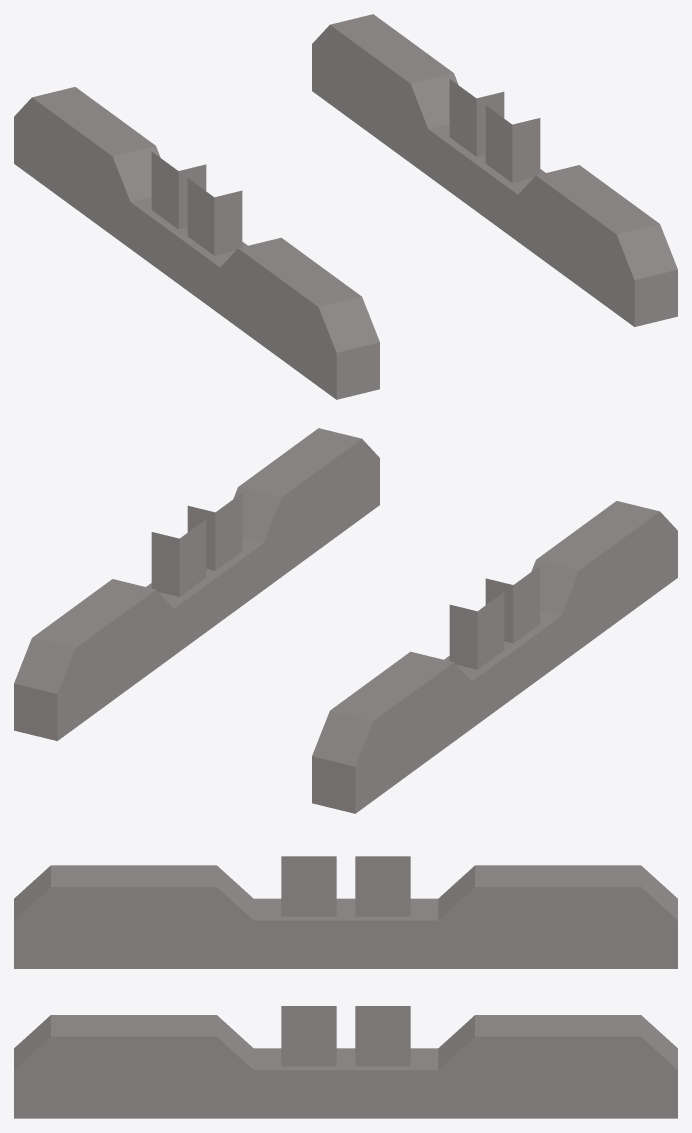
File: freight-train-wheel-frame_B.glb
3 renders of one model, top to bottom at view 1: azimuth 30°, elevation 25°; view 2: azimuth 150°, elevation 25°; view 3: azimuth 270°, elevation 25°, orthographic. The views are drawn at different scales.
Visible parts, largest first — view 1: freight-train-wheel-frame_B; view 2: freight-train-wheel-frame_B; view 3: freight-train-wheel-frame_B.
Boxes of the visible parts, box(x1,y1,x2,y2) form: freight-train-wheel-frame_B: box(14, 14, 677, 399); freight-train-wheel-frame_B: box(14, 428, 677, 813); freight-train-wheel-frame_B: box(14, 856, 677, 1118).
Size of the model in its own units: 2.2 by 0.65 by 3.6.
Materials: 1 (1 with a texture image).
